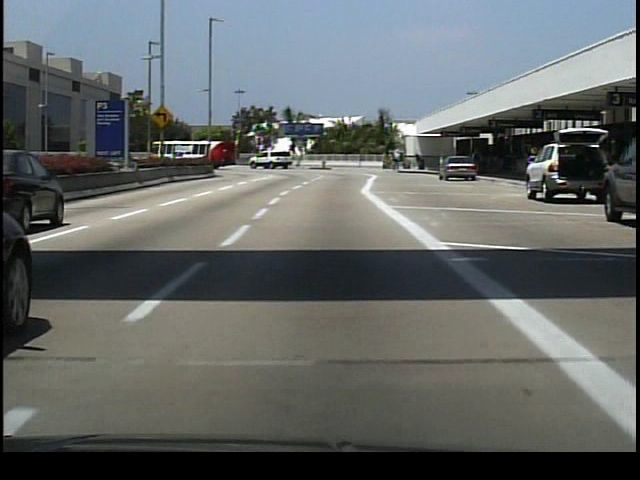person: (469, 149, 484, 178), (391, 149, 401, 176)
